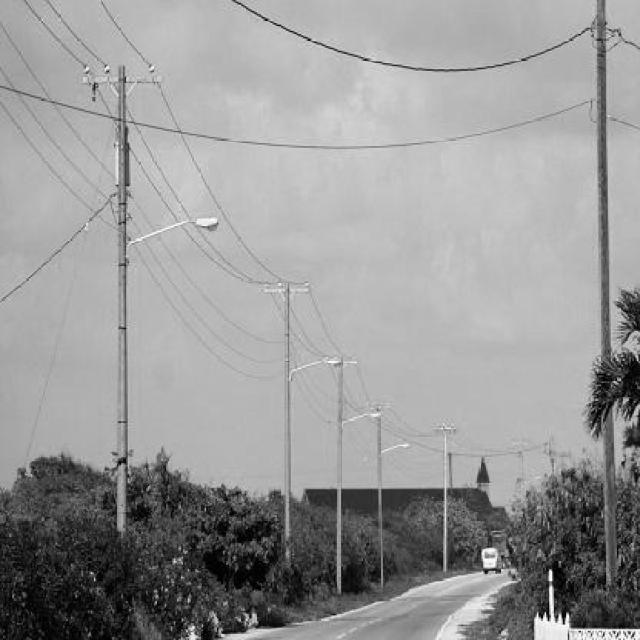Pole: (592, 0, 618, 610), (264, 281, 308, 562), (322, 356, 356, 594), (369, 405, 409, 588), (116, 65, 129, 539), (436, 423, 455, 573)
